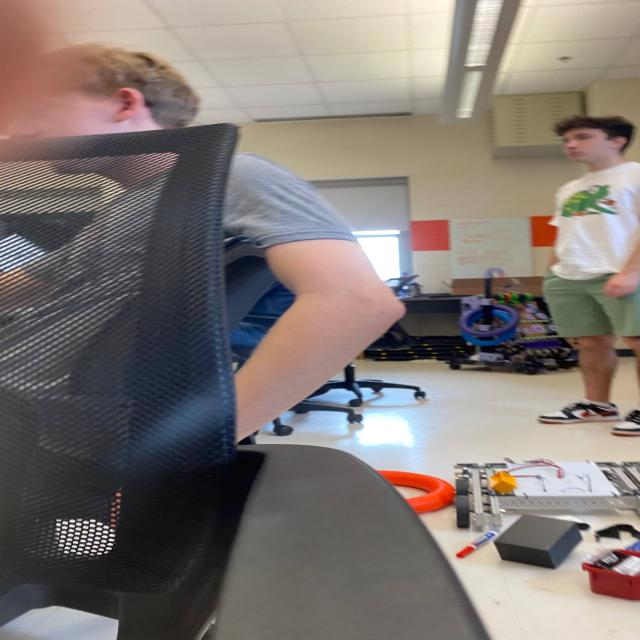yellow-specimen: (489, 471, 517, 494)
